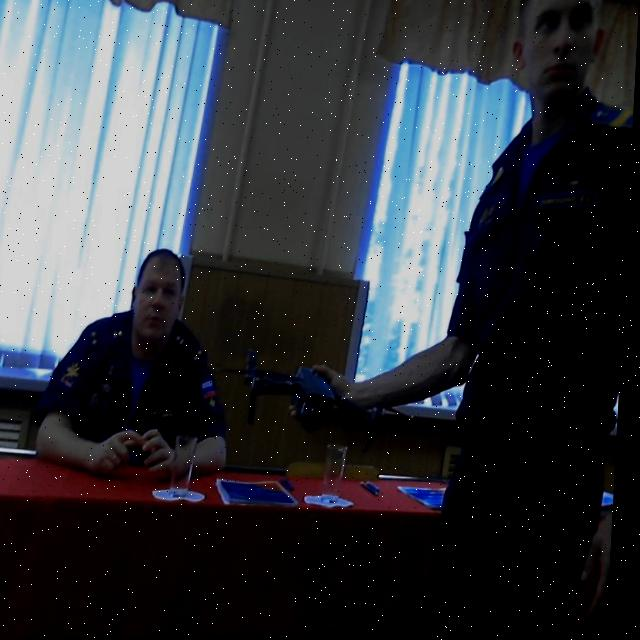drone: (204, 315, 435, 469)
